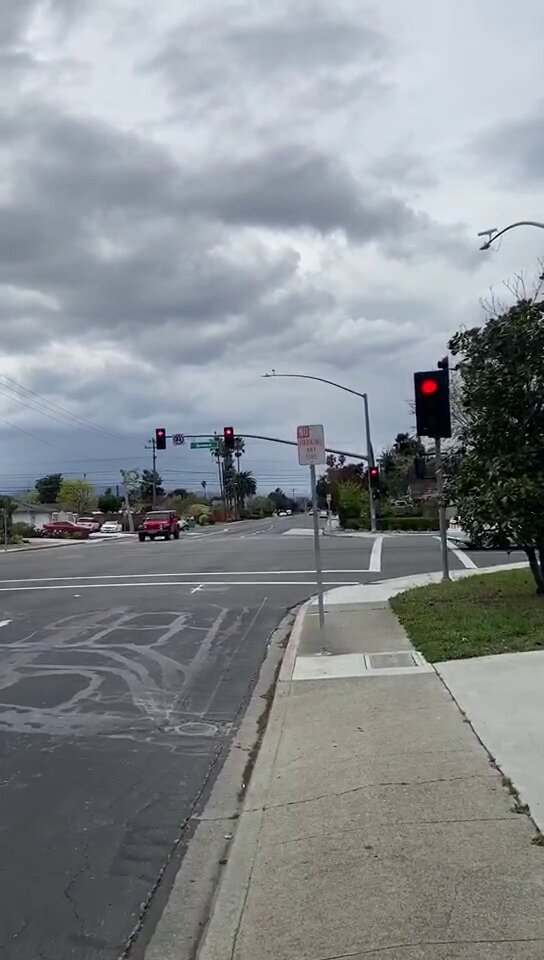red_light: (416, 373, 450, 437), (369, 464, 381, 489), (154, 427, 166, 451), (225, 426, 235, 447)
